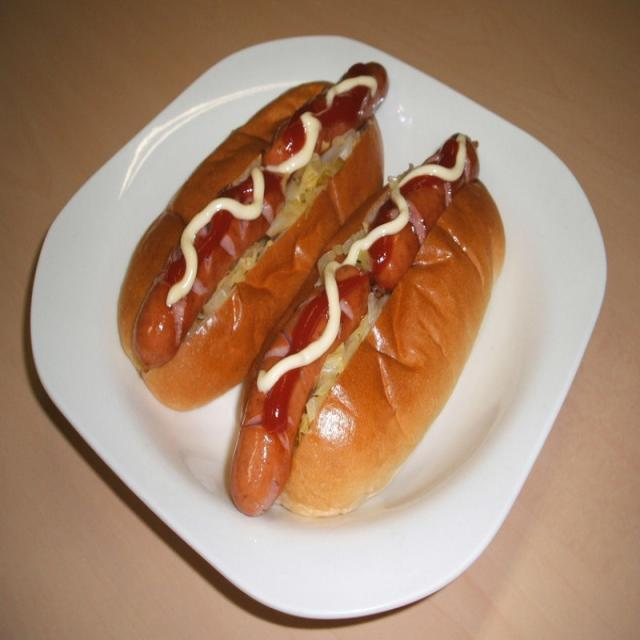Hot Dog: (220, 112, 524, 524), (107, 44, 390, 426)
